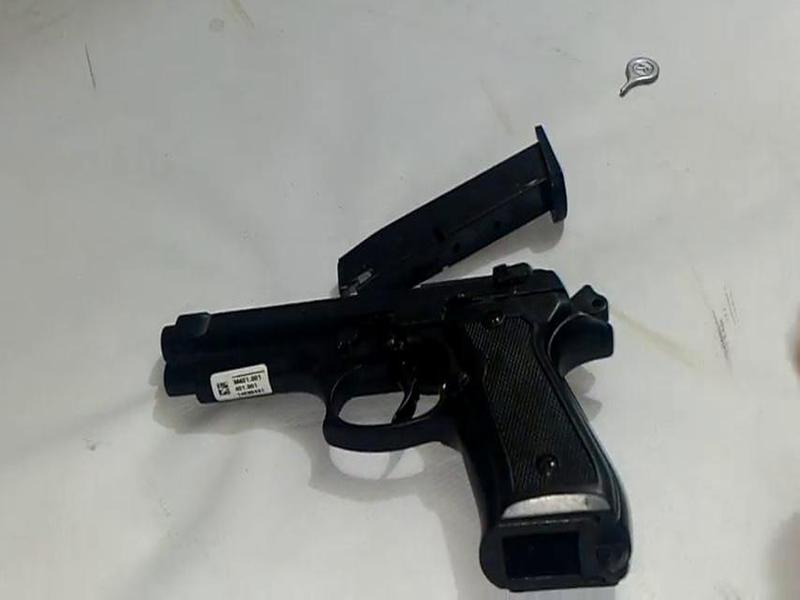Pistola: (94, 233, 638, 600)
